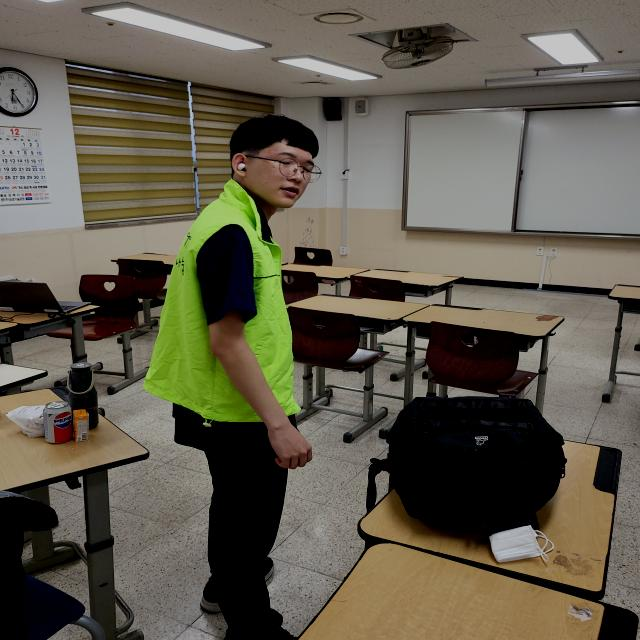weston_spy: (128, 165, 336, 439)
